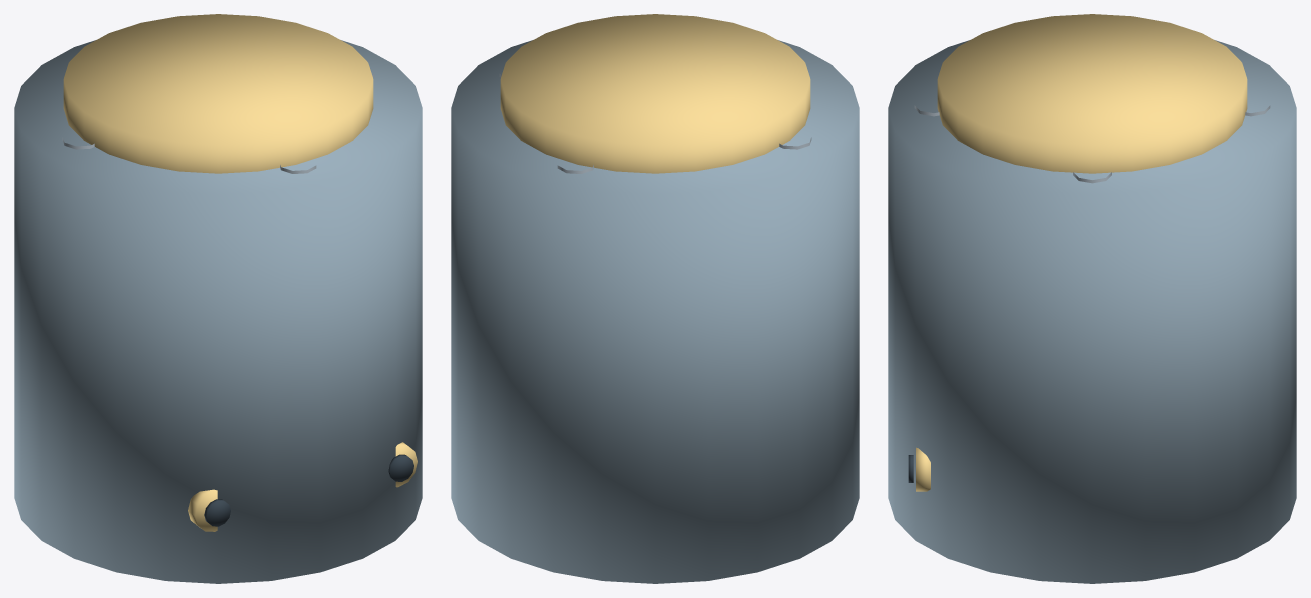
File: 72_L92_CoreSealCompressionMechanism.glb
3 renders of one model, left to right at view 1: azimuth 30°, elevation 25°; view 2: azimuth 150°, elevation 25°; view 3: azimuth 270°, elevation 25°, orthographic.
Parts seen in each view (by area): view 1: L92_CoreSealCompressionMechan_Part_0000, L92_CoreSealCompressionMechan_Part_0001, L92_CoreSealCompressionMechan_Part_0003, L92_CoreSealCompressionMechan_Part_0004, L92_CoreSealCompressionMechan_Part_0010; view 2: L92_CoreSealCompressionMechan_Part_0000, L92_CoreSealCompressionMechan_Part_0001; view 3: L92_CoreSealCompressionMechan_Part_0000, L92_CoreSealCompressionMechan_Part_0001, L92_CoreSealCompressionMechan_Part_0009.
Boxes of the visible parts, box(x1,y1,x2,y2) form: L92_CoreSealCompressionMechan_Part_0000: box(14, 40, 422, 583); L92_CoreSealCompressionMechan_Part_0001: box(63, 14, 373, 173); L92_CoreSealCompressionMechan_Part_0003: box(188, 489, 217, 531); L92_CoreSealCompressionMechan_Part_0004: box(204, 499, 230, 526); L92_CoreSealCompressionMechan_Part_0010: box(388, 454, 413, 481); L92_CoreSealCompressionMechan_Part_0000: box(451, 40, 859, 583); L92_CoreSealCompressionMechan_Part_0001: box(500, 14, 810, 173); L92_CoreSealCompressionMechan_Part_0000: box(888, 40, 1296, 583); L92_CoreSealCompressionMechan_Part_0001: box(937, 14, 1247, 173); L92_CoreSealCompressionMechan_Part_0009: box(916, 447, 930, 491).
Bounding box in the file's own units: 1.16 × 1.31 × 1.16.
